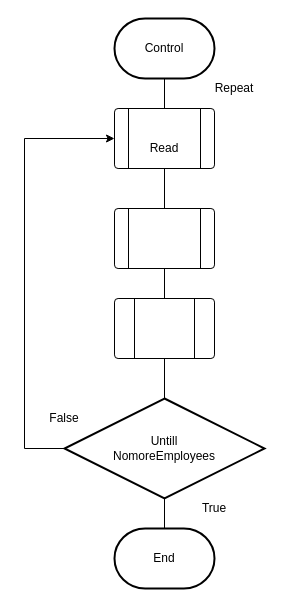
Image size: 283x606. Some labels were removed from this diagram. The shapes that lost their labels are listed below. From the top down, each one's centre as x and y in pixels, then its label:
(x=164, y=238): Calc
(x=164, y=328): Print
